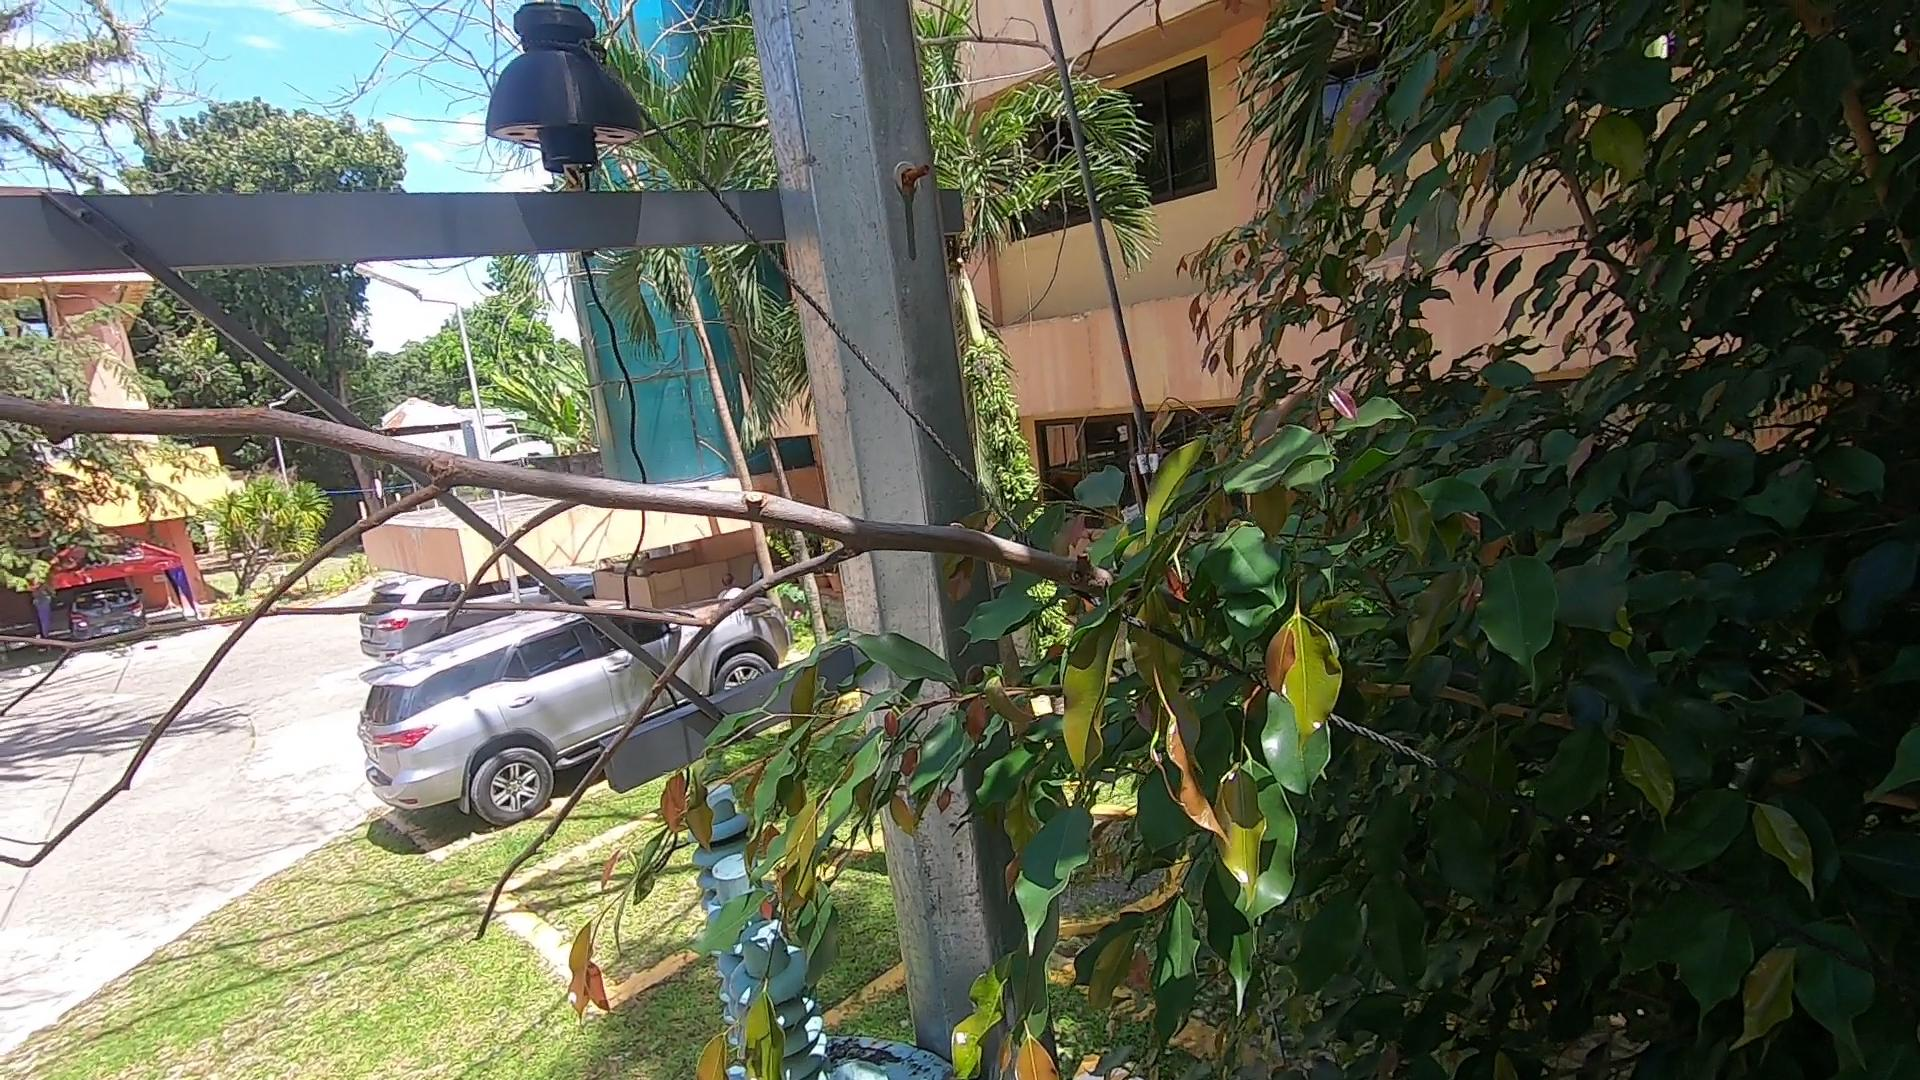tree branch: (1, 355, 1534, 957)
